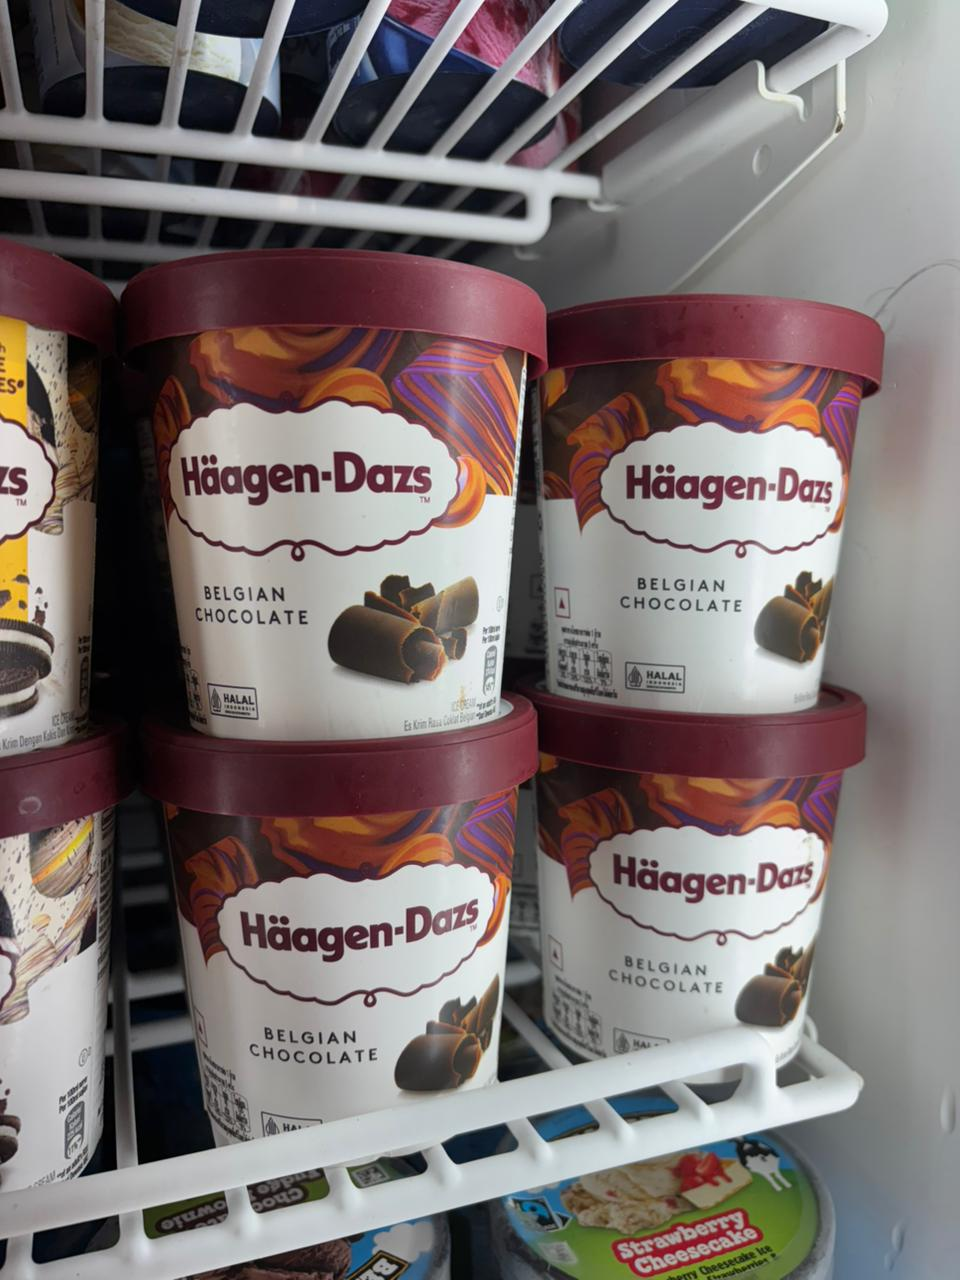Haagen-Dazs IceCream Tub: (118, 258, 520, 747), (481, 288, 922, 723), (173, 693, 523, 1170), (493, 671, 860, 1068)
